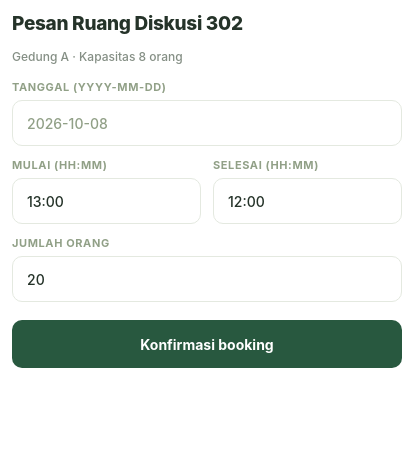
Test case: booking form state management › shows inline validation errors and does not submit invalid values
The width and height of the screenshot is (414, 465).
Click the button "Konfirmasi booking" at (207, 344), box x1=12 y1=320 x2=402 y2=368
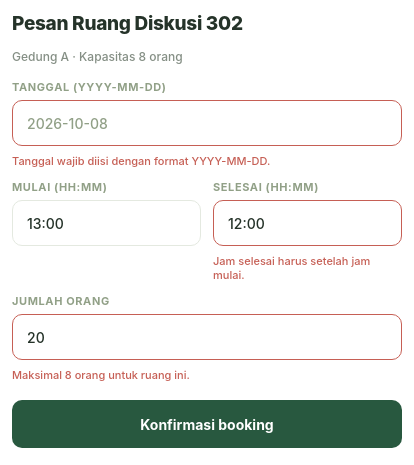
Expected: the text "Tanggal wajib diisi dengan format YYYY-MM-DD." is shown, x1=12 y1=154 x2=270 y2=168
Expected: the text "Jam selesai harus setelah jam mulai." is shown, x1=213 y1=254 x2=373 y2=282
